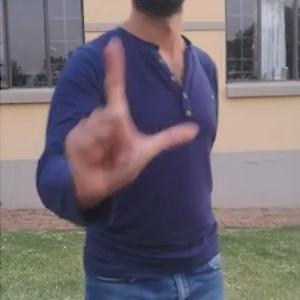land_hand: (57, 29, 199, 204)
